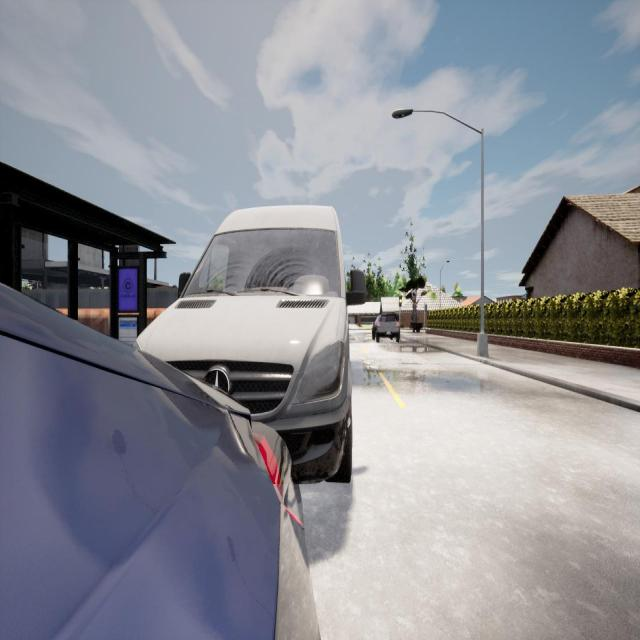Vehicle: (0, 283, 319, 638), (132, 208, 366, 484), (372, 313, 400, 344)
traffic_light: (399, 296, 402, 307), (425, 304, 427, 312)
